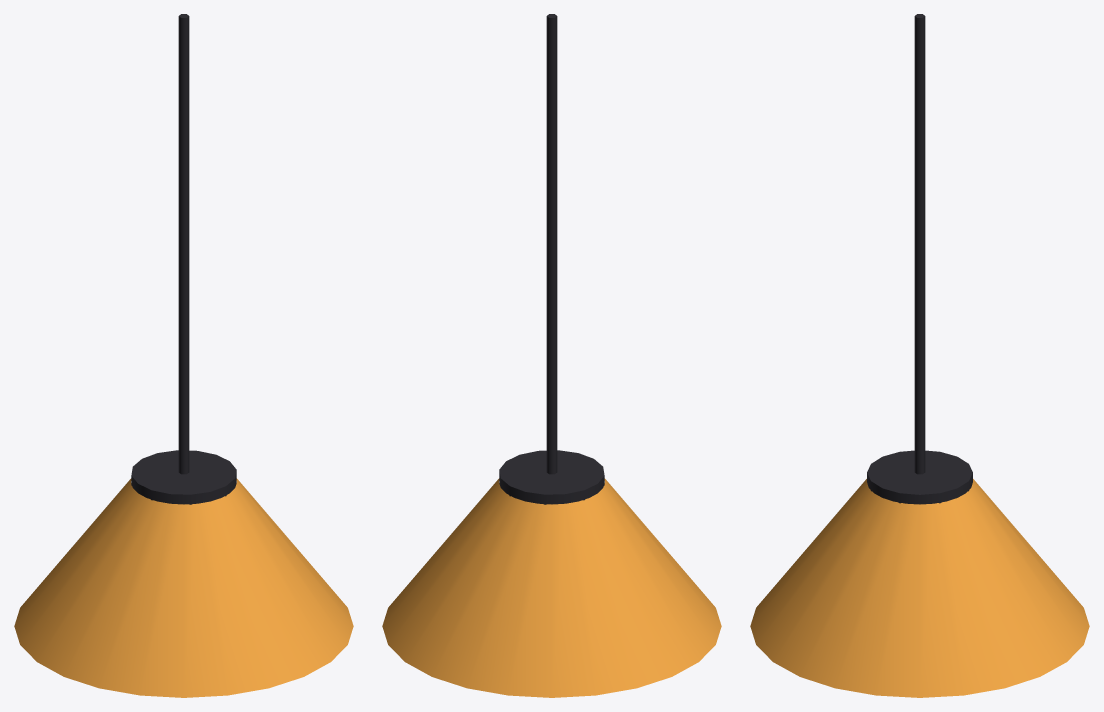
Rendered from lamp.glb.
3 views of the same model, side by side, from view 1: azimuth 30°, elevation 25°; view 2: azimuth 150°, elevation 25°; view 3: azimuth 270°, elevation 25° (orthographic).
Parts seen in each view (by area): view 1: Shade, Cord, Cap; view 2: Shade, Cord, Cap; view 3: Shade, Cord, Cap.
Boxes of the visible parts, x1,y1,x2,y2 form: Shade: [14, 478, 353, 697]; Cord: [178, 14, 189, 474]; Cap: [131, 450, 236, 504]; Shade: [382, 478, 721, 697]; Cord: [546, 14, 557, 474]; Cap: [499, 450, 604, 504]; Shade: [750, 479, 1089, 697]; Cord: [914, 14, 925, 474]; Cap: [867, 450, 972, 504].
Bounding box in the file's own units: 0.64 × 1.3 × 0.64.
